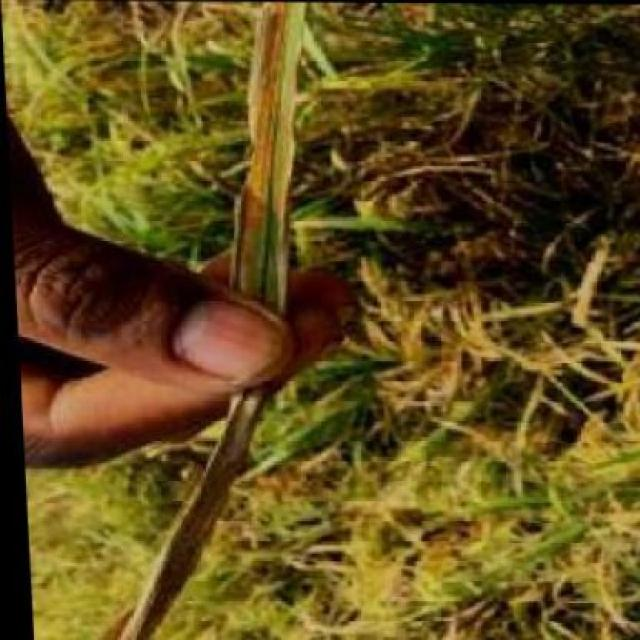Brown_Spot: (110, 11, 312, 557)
